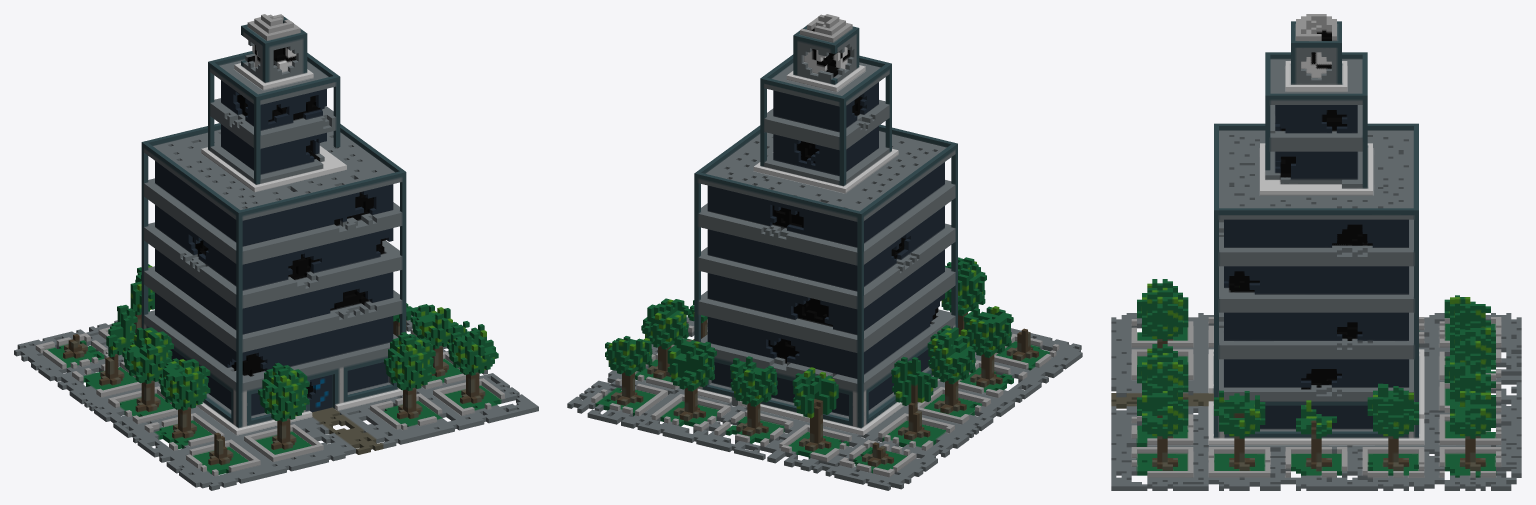
File: building_big_2_damaged.glb
The picture shows the model from 3 angles, left to right: view 1: azimuth 30°, elevation 25°; view 2: azimuth 150°, elevation 25°; view 3: azimuth 270°, elevation 25°; orthographic projection. The views are drawn at different scales.
Parts seen in each view (by area): view 1: building_big_2_damaged; view 2: building_big_2_damaged; view 3: building_big_2_damaged.
Boxes of the visible parts, box(x1,y1,x2,y2) form: building_big_2_damaged: box(14, 14, 538, 490); building_big_2_damaged: box(567, 14, 1082, 490); building_big_2_damaged: box(1111, 14, 1521, 490).
Bounding box in the file's own units: 8 × 8.3 × 8.
1 material, 1 textured.
